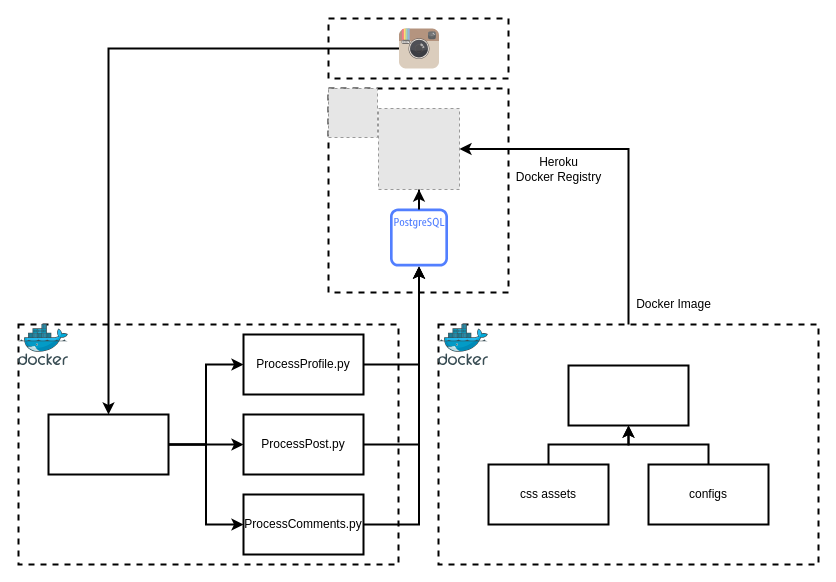
The diagram is 836 pixels wide and 582 high, and some of its shapes have lost their labels. Grey dashed boxes stand in for pictures. Here are the shapes that lost their labels. From the top down, the box of each, then its label:
(567, 364, 689, 426): app.py
(47, 413, 169, 475): DataPrepare.py (the crawler)
